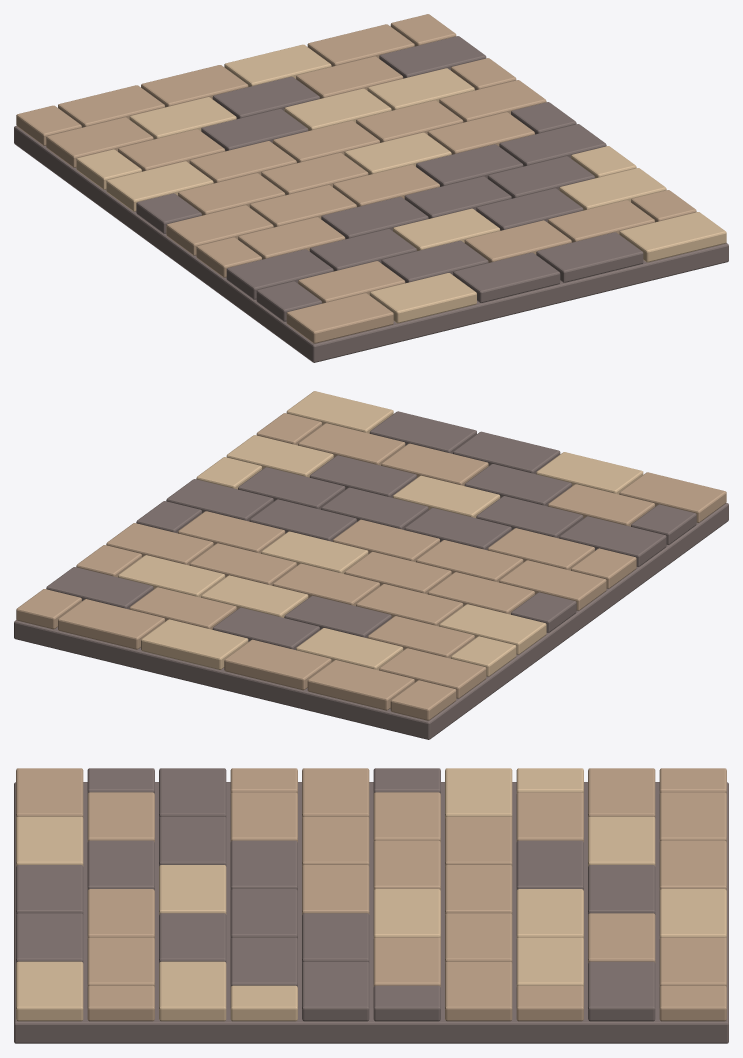
File: ashwick-cobblestone-path.meshopt.glb
3 views of the same model, one above another, from view 1: azimuth 30°, elevation 25°; view 2: azimuth 150°, elevation 25°; view 3: azimuth 270°, elevation 25° (orthographic). The views are drawn at different scales.
Visible parts, largest first — view 1: Setts.003, Setts.005, Setts.004, Sand bed.001; view 2: Setts.003, Setts.005, Setts.004, Sand bed.001; view 3: Setts.003, Setts.005, Setts.004, Sand bed.001.
Boxes of the visible parts, box(x1,y1,x2,y2) form: Setts.003: box(16, 14, 696, 343); Setts.005: box(136, 36, 643, 321); Setts.004: box(76, 44, 726, 323); Sand bed.001: box(14, 126, 728, 362); Setts.003: box(16, 413, 726, 720); Setts.005: box(46, 411, 696, 649); Setts.004: box(118, 391, 643, 676); Sand bed.001: box(14, 503, 728, 739); Setts.003: box(16, 768, 726, 1021); Setts.005: box(16, 768, 655, 1021); Setts.004: box(16, 768, 726, 1021); Sand bed.001: box(14, 782, 728, 1043).
Bounding box in the file's own units: 2.4 × 0.168 × 3.
